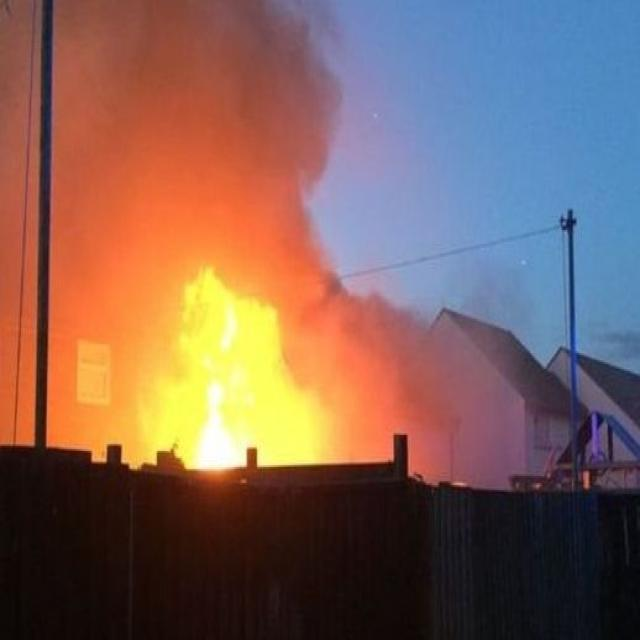Fire: (165, 316, 291, 476)
Smoke: (2, 19, 446, 471)
